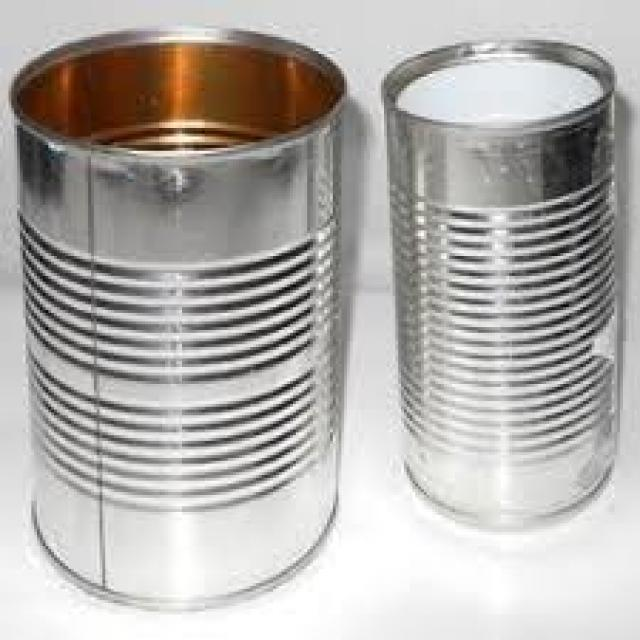recyclable: (6, 25, 347, 606), (378, 34, 618, 521)
